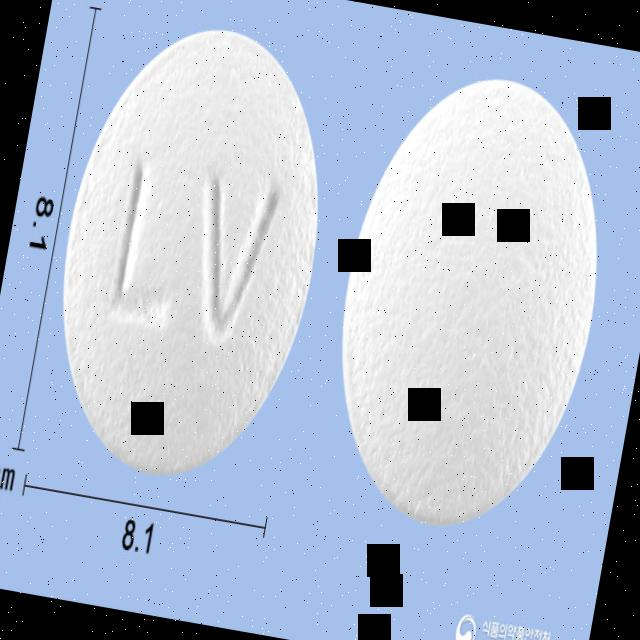Levobay: (26, 6, 356, 500)
